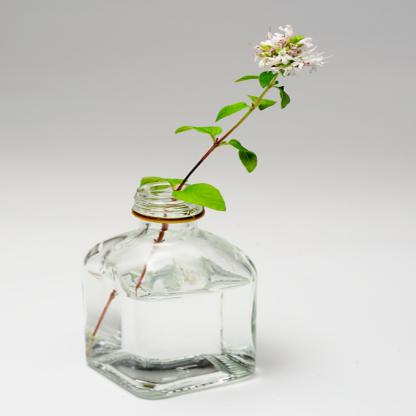vase: (82, 180, 258, 400)
